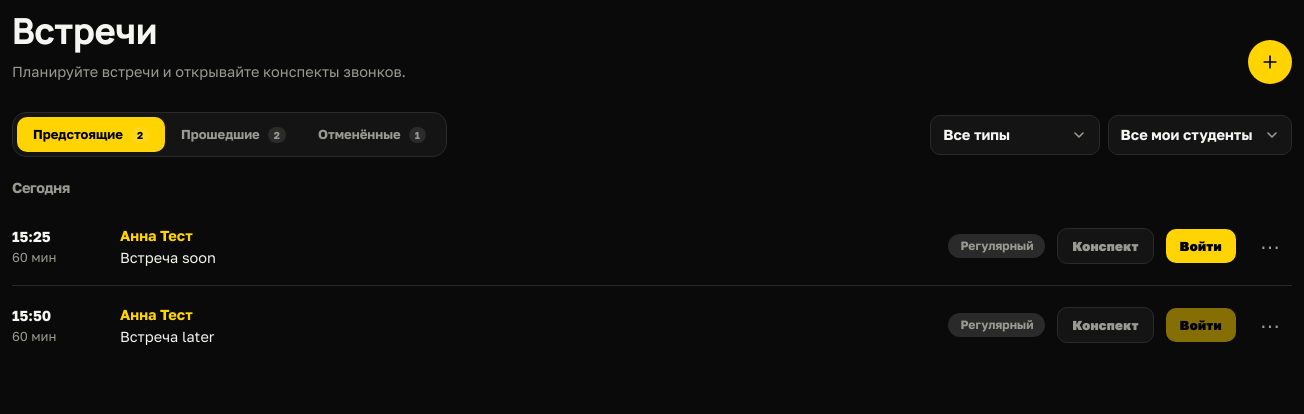
Test: разделяет встречи и открывает вход за 10 минут, показывает реальные конспекты
This screenshot has width=1304, height=414.
Expected: the text "Встреча soon" is shown, [120,249,216,266]
Expected: the number of buttons named "Новая встреча" is 1, [1248,40,1292,84]
Step 1. Click the tab "Прошедшие2" → (234, 134), box [165,117,302,152]
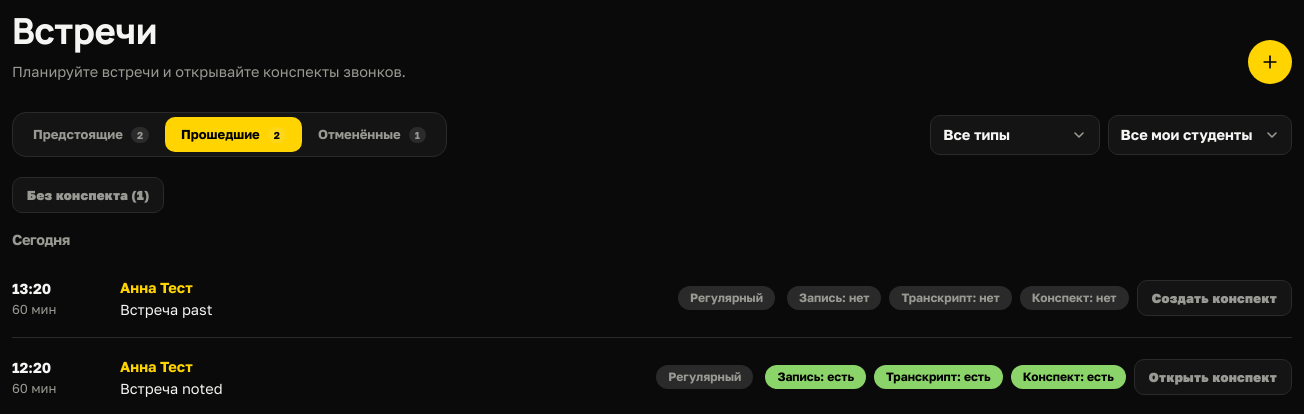
Now the button "Открыть конспект" is shown, box [1134,359,1292,395]
Step 2. Click the button "Без конспекта (1)" → (88, 195), box [12,177,164,213]
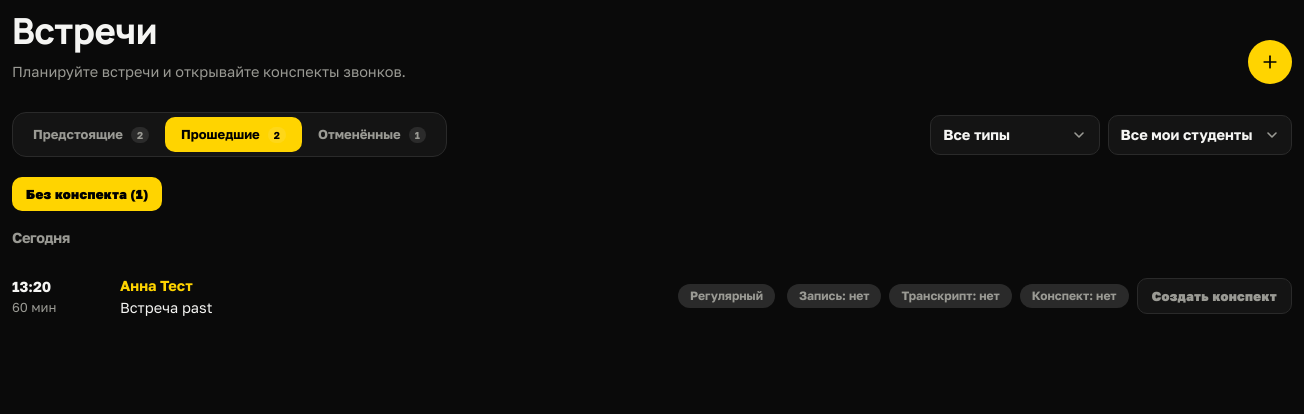
Now the text "Встреча past" is shown, box [120,299,212,316]
Now the text "Встреча noted" is gone
Step 3. Click the tab "Отменённые1" → (372, 134), box [302,117,442,152]
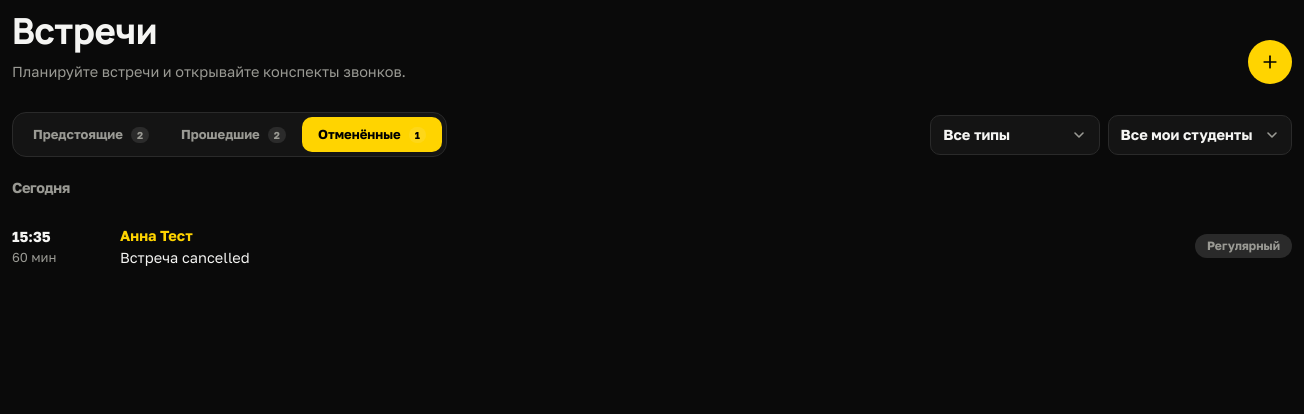
Expected: the button "Войти" is not shown
Now the text "Встреча cancelled" is shown, box [120,249,250,266]
